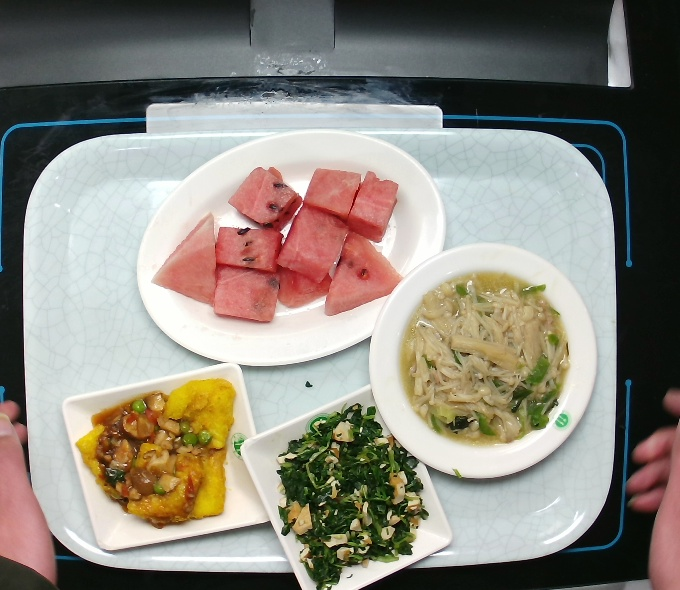wcq-CuiPiDouFu: (74, 375, 238, 529)
wcq-JinZhenGu: (401, 265, 571, 445)
wcq-MaLanTouChaoDouGan: (275, 400, 430, 590)
wcq-XiGua: (151, 164, 403, 324)
